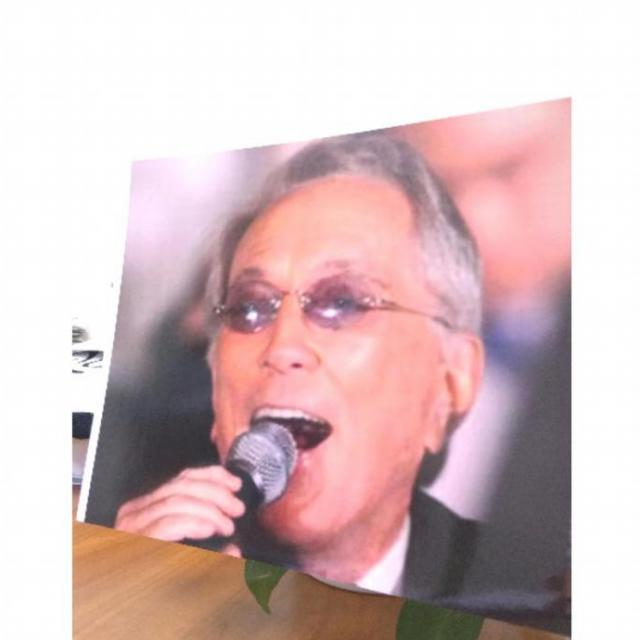photo: (74, 87, 570, 640)
